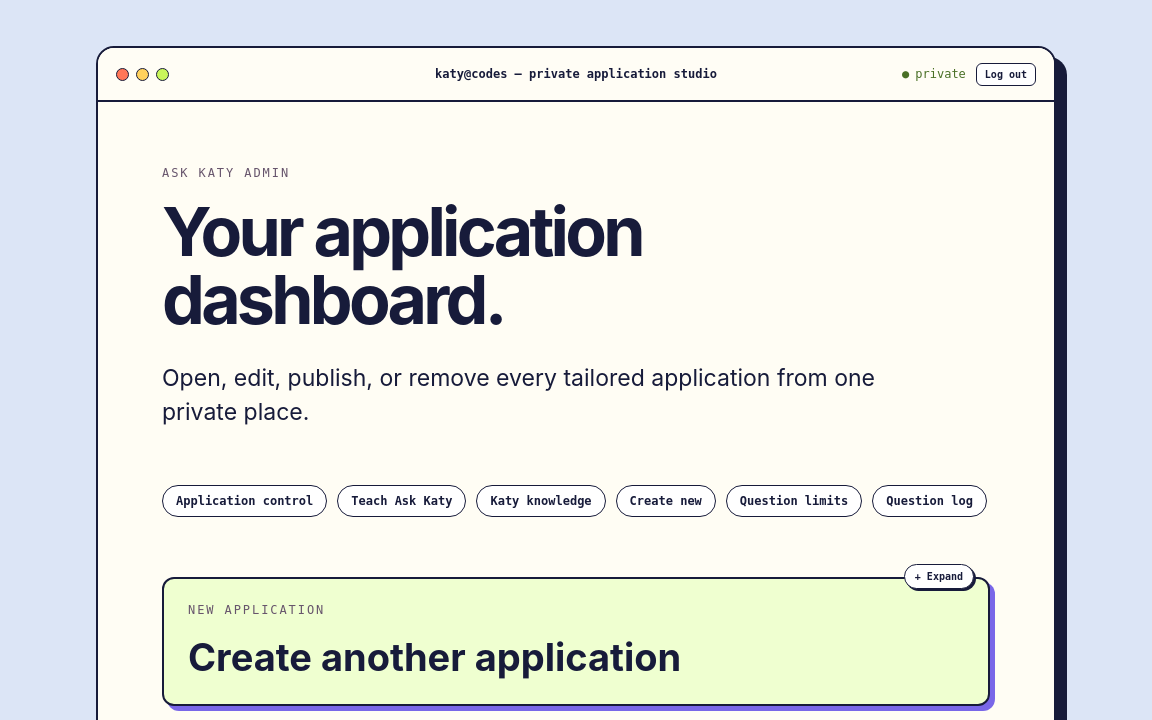
Scenario: logs out of the private admin studio
The image size is (1152, 720).
Click the button "Log out": (1006, 74) [976, 63, 1036, 86]
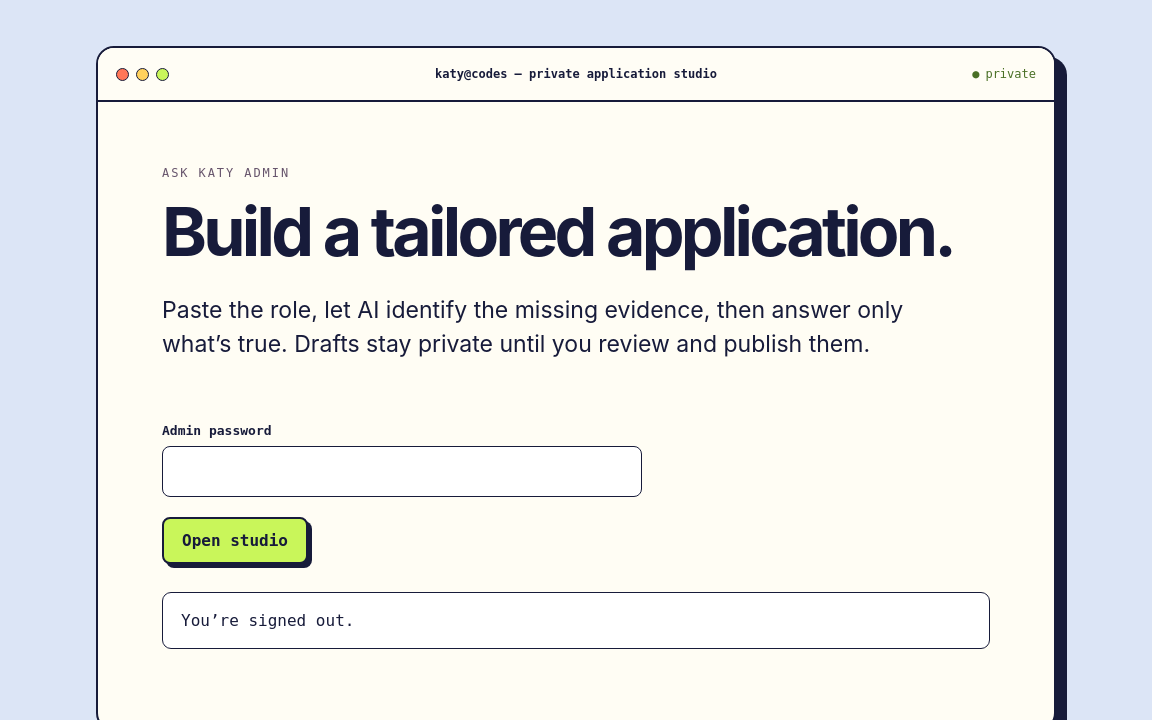
expect the password field labelled "Admin password" is shown: met, box [162, 446, 642, 497]
expect the text "You’re signed out." is shown: met, box [162, 592, 990, 649]
expect the heading "Your application dashboard." is gone: met
